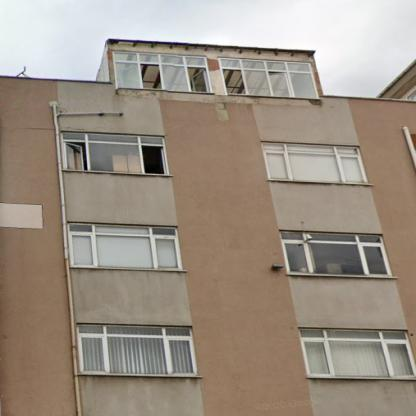window: (79, 326, 195, 374), (299, 330, 415, 376), (69, 224, 178, 268), (280, 232, 389, 275), (262, 142, 366, 184), (63, 134, 167, 174), (114, 52, 212, 92), (220, 58, 318, 98)
